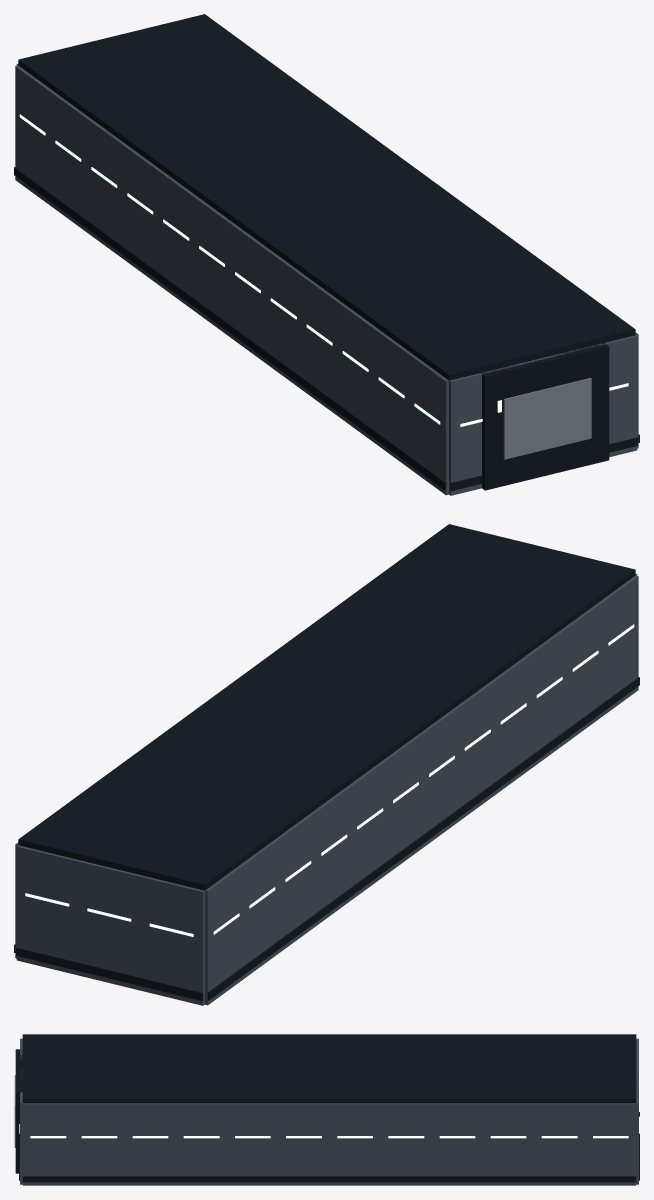
The model's file is np_z03_zone_confinement.glb.
3 renders of one model, top to bottom at view 1: azimuth 30°, elevation 25°; view 2: azimuth 150°, elevation 25°; view 3: azimuth 270°, elevation 25°, orthographic. The views are drawn at different scales.
Parts seen in each view (by area): view 1: Panneau35, Insert, Panneau23, Panneau17, Panneau19, Panneau13, Panneau11, Panneau9, Panneau15, Panneau3, Panneau7, Panneau5 (+40 smaller); view 2: Panneau25, Panneau27, Panneau29, Panneau, Panneau5, Panneau7, Panneau11, Panneau13, Panneau15, Panneau9, Panneau21, Panneau17 (+39 smaller); view 3: Panneau2, Panneau4, Panneau10, Panneau12, Panneau16, Panneau18, Panneau24, Panneau14, Panneau6, Panneau8, Panneau20, Panneau22 (+51 smaller).
Boxes of the visible parts, box(x1,y1,x2,y2) form: Panneau35: box(481, 343, 609, 490); Insert: box(503, 378, 591, 459); Panneau23: box(410, 354, 448, 495); Panneau17: box(302, 275, 340, 415); Panneau19: box(338, 302, 376, 442); Panneau13: box(230, 223, 268, 363); Panneau11: box(194, 197, 232, 337); Panneau9: box(158, 170, 197, 310); Panneau15: box(266, 249, 304, 389); Panneau3: box(51, 92, 89, 232); Panneau7: box(123, 144, 161, 284); Panneau5: box(87, 118, 125, 258); Panneau25: box(141, 875, 204, 1005); Panneau27: box(78, 860, 142, 990); Panneau29: box(16, 845, 79, 975); Panneau: box(205, 864, 243, 1005); Panneau5: box(277, 812, 315, 952); Panneau7: box(313, 785, 351, 925); Panneau11: box(385, 733, 423, 873); Panneau13: box(421, 707, 459, 847); Panneau15: box(456, 680, 495, 820); Panneau9: box(349, 759, 387, 899); Panneau21: box(564, 602, 602, 742); Panneau17: box(492, 654, 530, 794); Panneau2: box(585, 1103, 636, 1185); Panneau4: box(534, 1103, 585, 1185); Panneau10: box(380, 1103, 431, 1185); Panneau12: box(329, 1103, 380, 1185); Panneau16: box(227, 1103, 278, 1185); Panneau18: box(176, 1103, 227, 1185); Panneau24: box(22, 1103, 73, 1185); Panneau14: box(278, 1103, 329, 1185); Panneau6: box(483, 1103, 533, 1185); Panneau8: box(432, 1103, 482, 1185); Panneau20: box(125, 1103, 175, 1185); Panneau22: box(74, 1103, 124, 1185).
Bounding box in the file's own units: 6.28 × 3.68 × 24.48.
